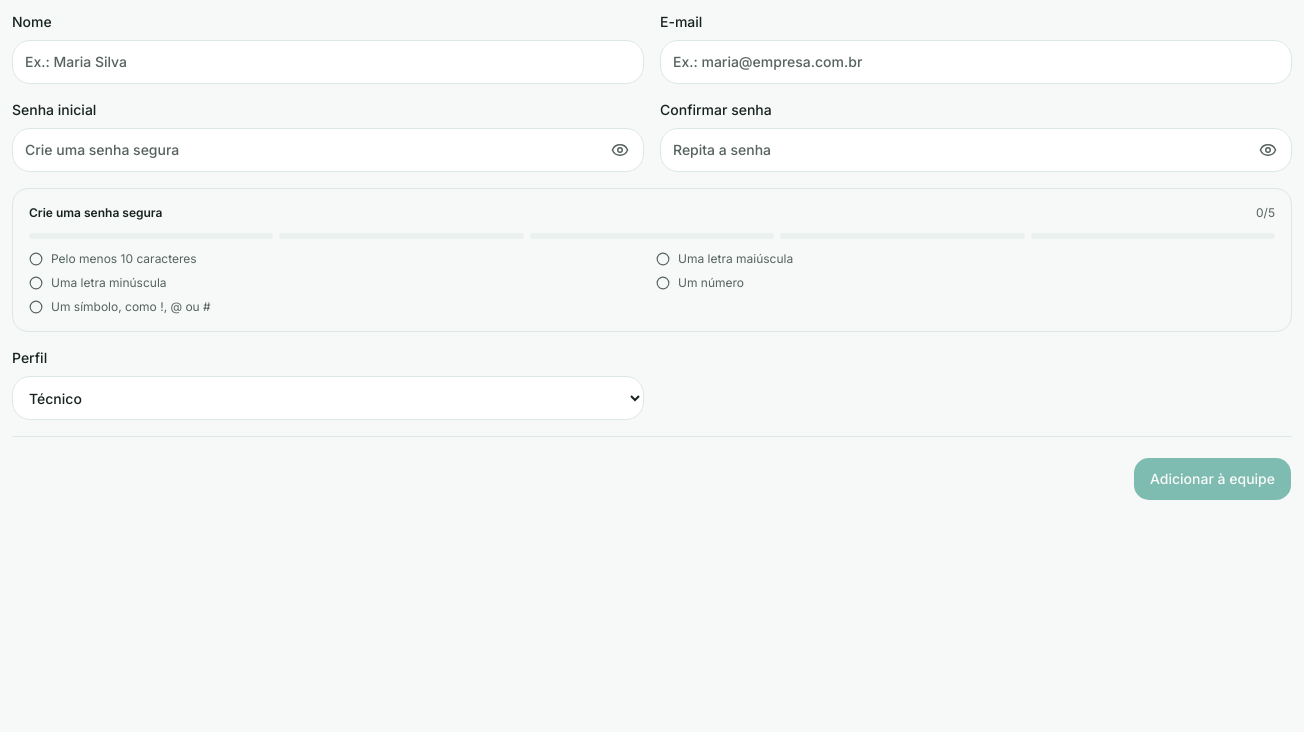
Test: team management foundation › requires a safe confirmed password and lets both values be revealed
expect the button "Adicionar à equipe" is disabled: met, box [1133,457,1292,501]
Type "Pessoa Teste" into the field labelled "Nome" at (328, 62), box [12,40,644,84]
Type "person@example.test" into the field labelled "E-mail" at (976, 62), box [660,40,1292,84]
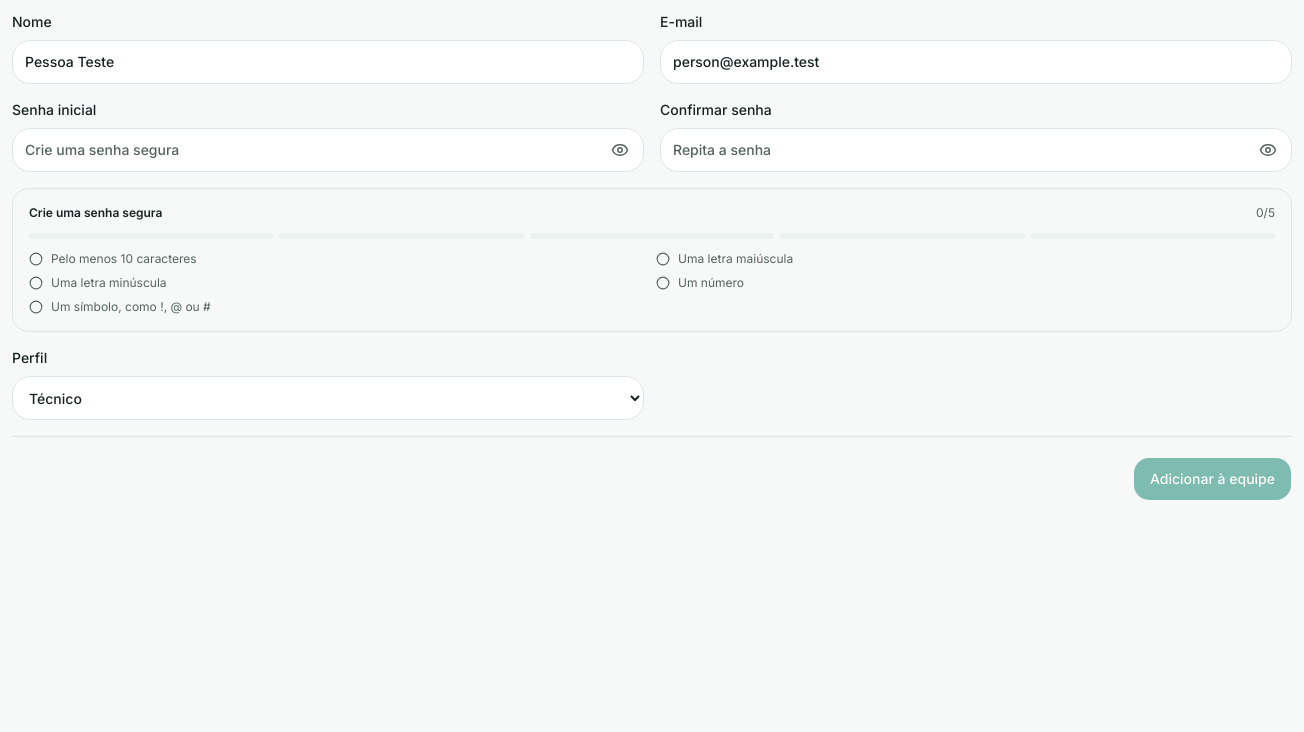
Type "LocalOnly!2026" into the password field labelled "Senha inicial" at (328, 150), box [12,128,644,172]
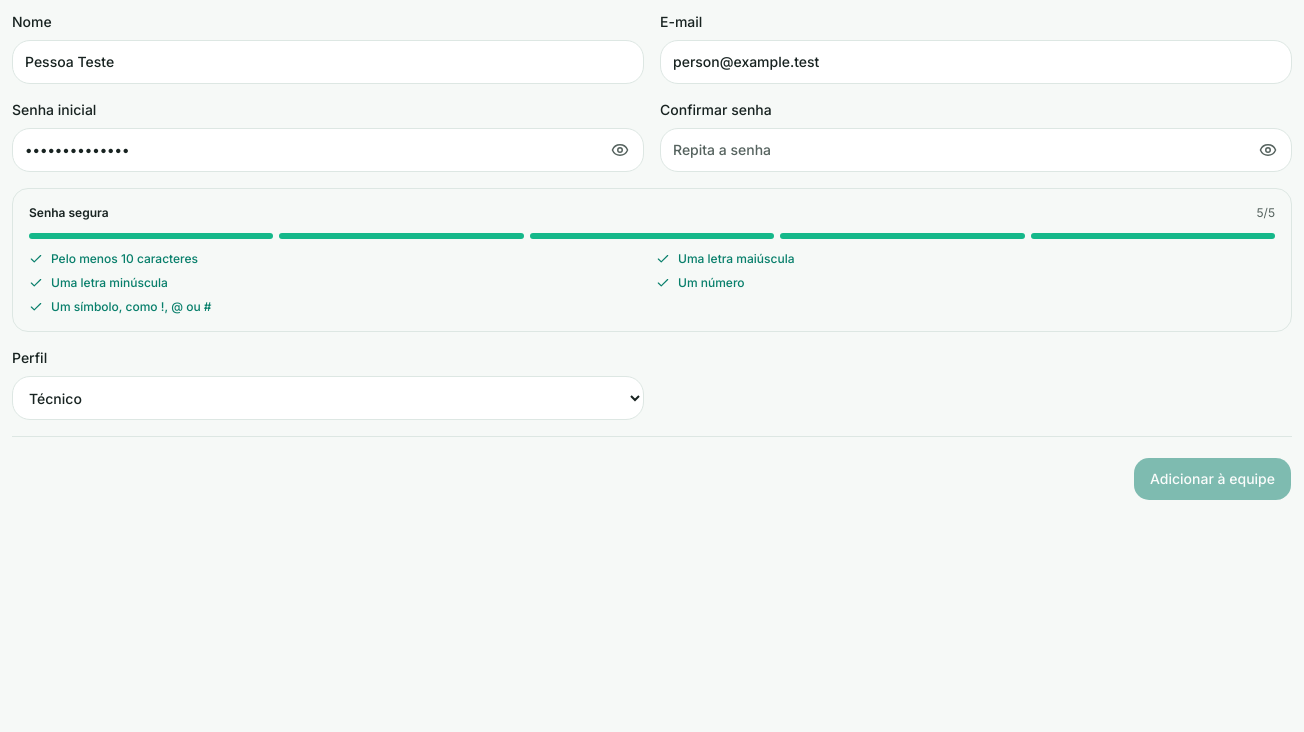
Type "Different!2026" into the password field labelled "Confirmar senha" at (976, 150), box [660,128,1292,172]
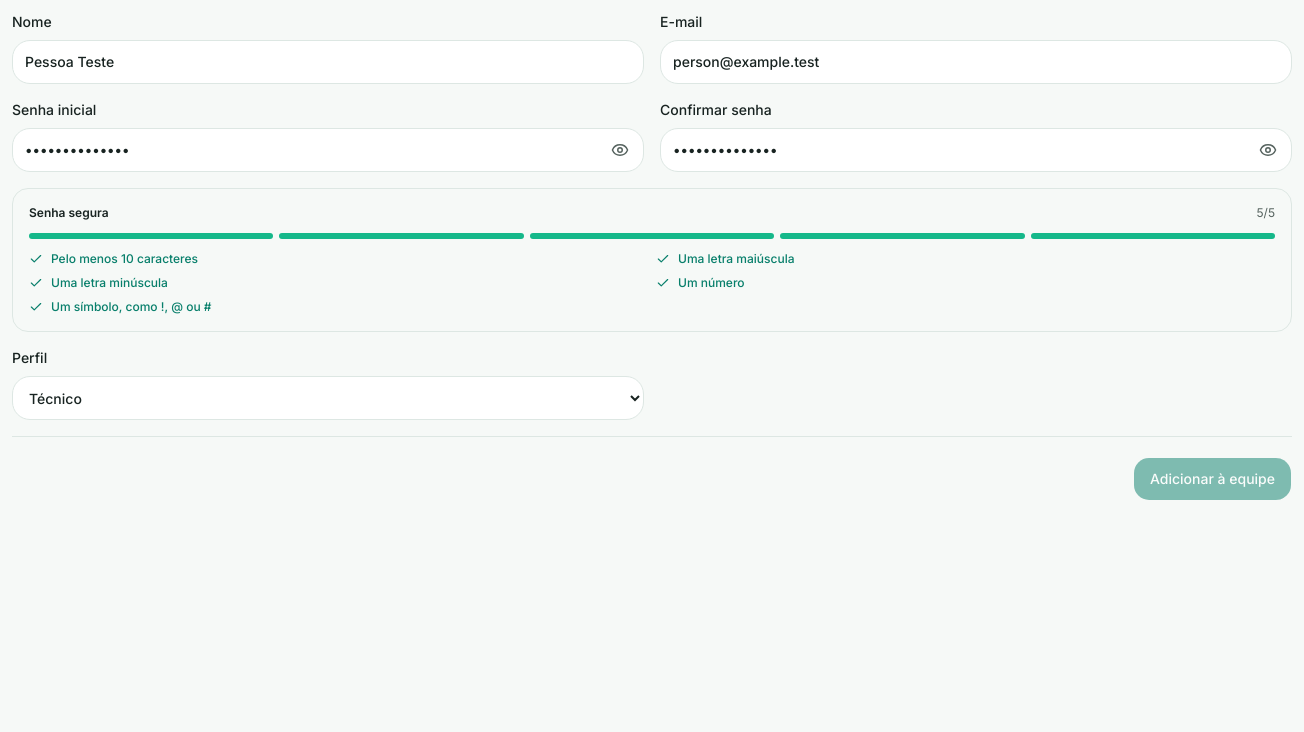
expect the text "Senha segura" is shown: met, box [29,205,109,221]
expect the button "Adicionar à equipe" is disabled: met, box [1133,457,1292,501]
Click the 1st button named "Mostrar senha" at (620, 150), box [600,130,640,170]
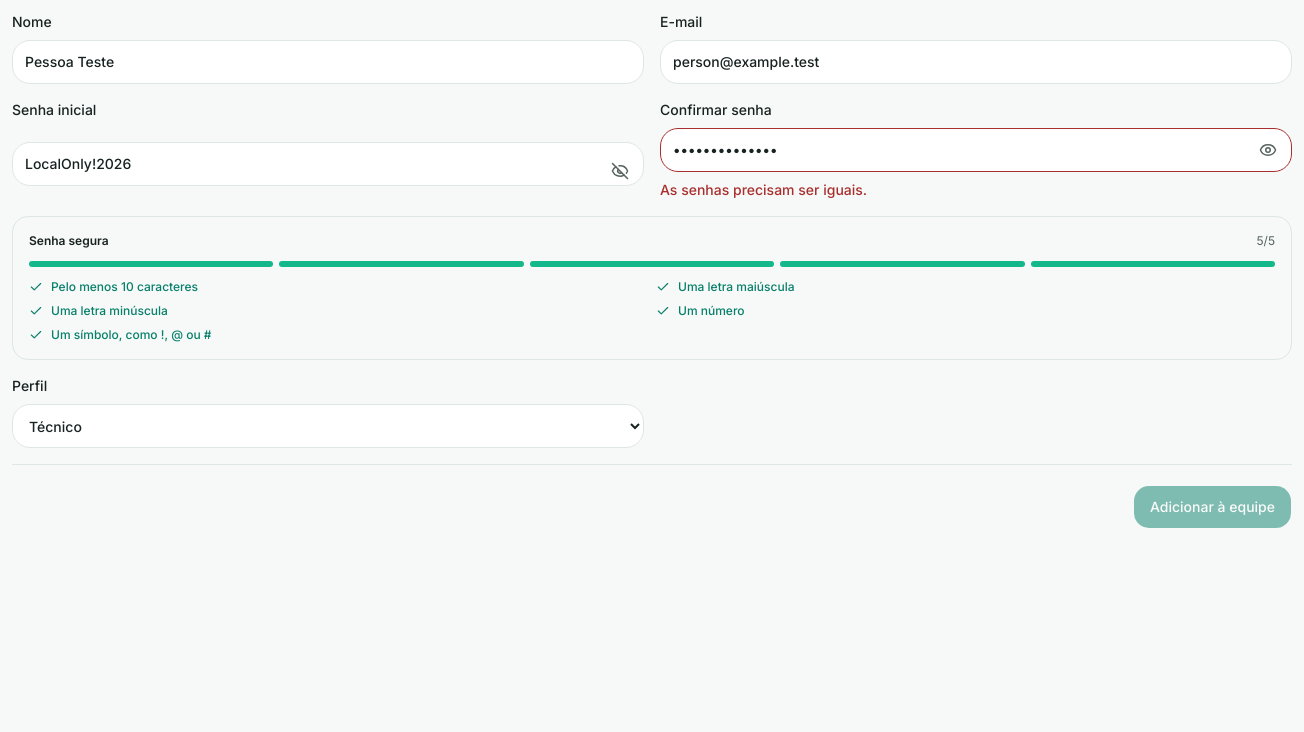
Click the button named "Mostrar senha" at (1268, 150), box [1248,130,1288,170]
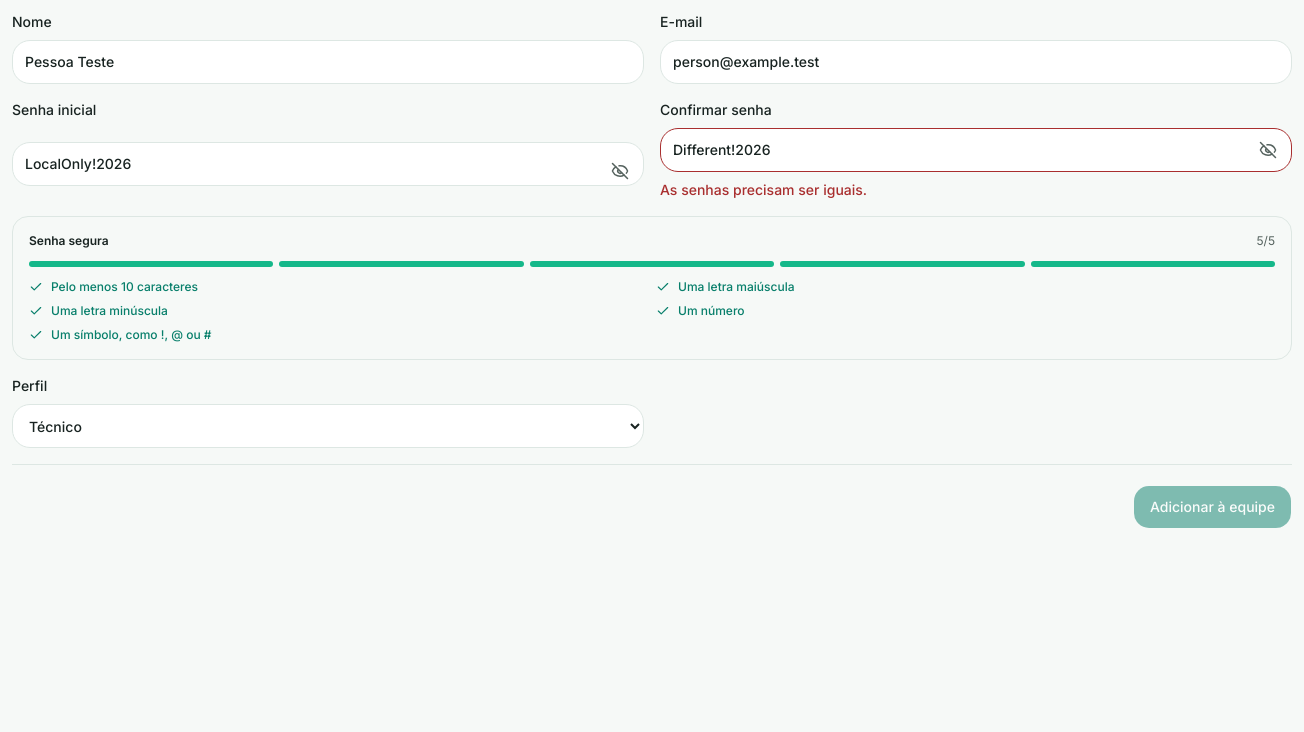
expect the field labelled "Senha inicial" shows its text: met, box [12,142,644,186]
expect the field labelled "Confirmar senha" shows its text: met
Replace the text in the field labelled "Confirmar senha" with "LocalOnly!2026" at (976, 150), box [660,128,1292,172]
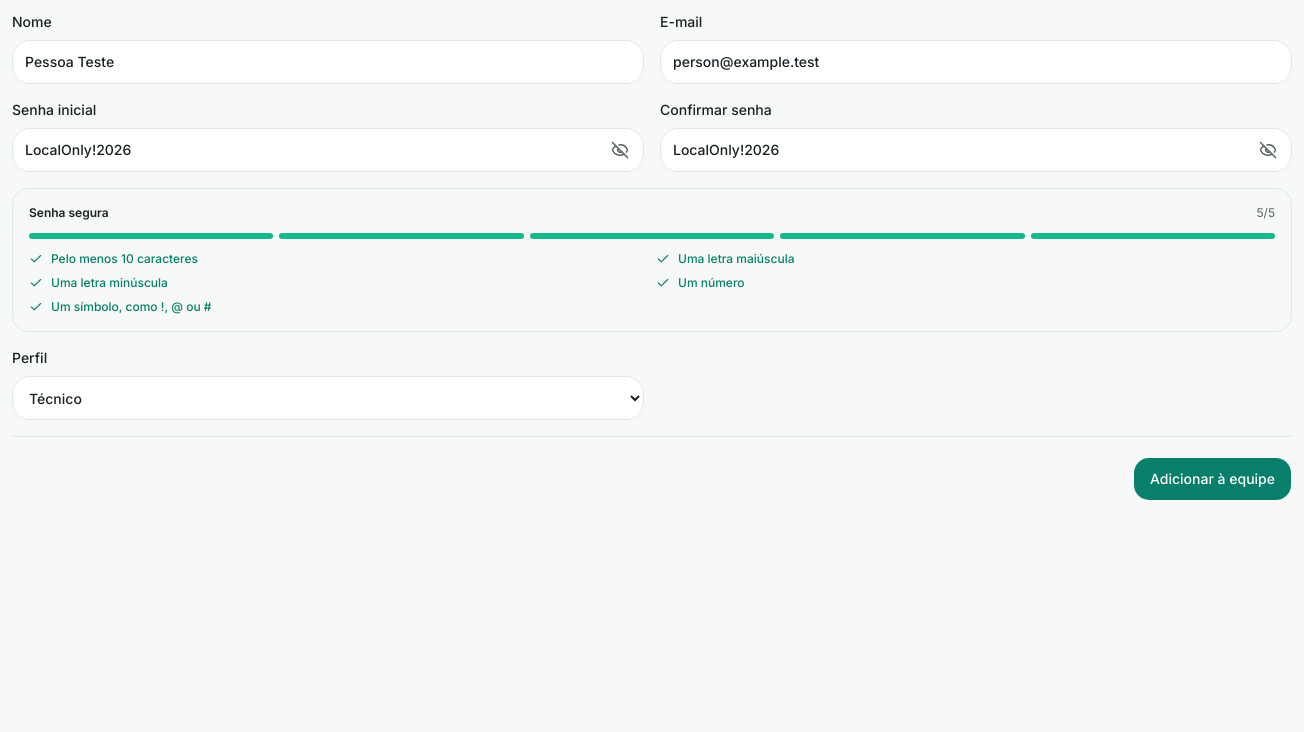
expect the button "Adicionar à equipe" is enabled: met, box [1133,457,1292,501]
